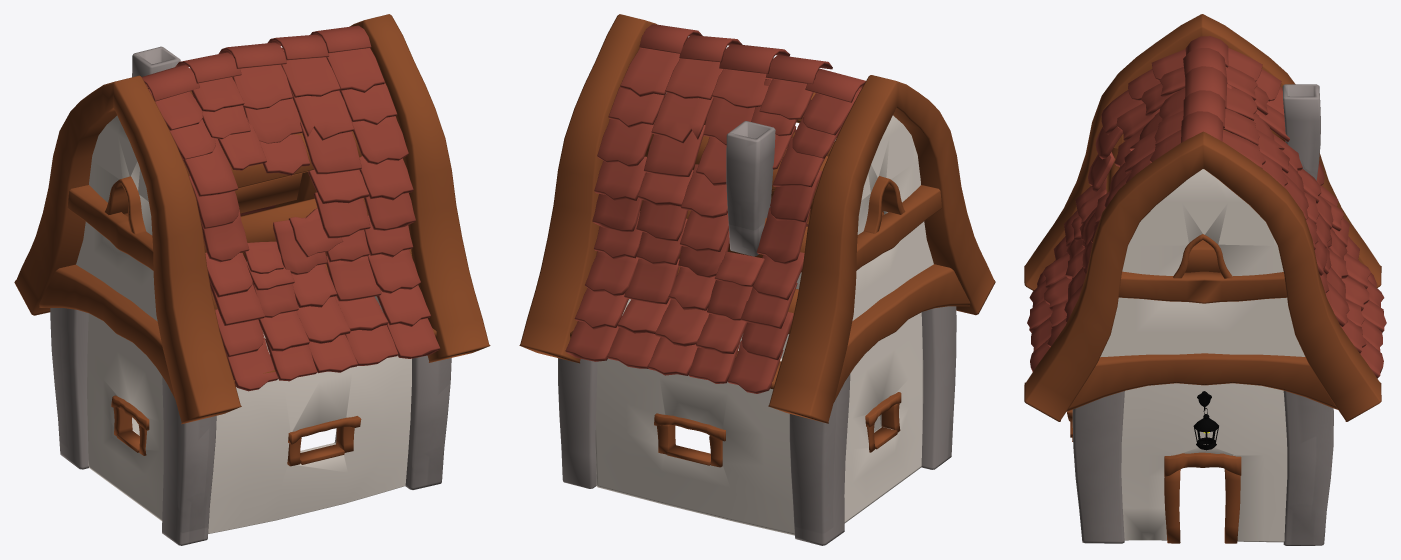
The model's file is rumah npc 6.fbx.
The picture shows the model from 3 angles, left to right: view 1: azimuth 30°, elevation 25°; view 2: azimuth 150°, elevation 25°; view 3: azimuth 270°, elevation 25°; orthographic projection. The views are drawn at different scales.
Visible parts, largest first — view 1: predny_tram_Drevo_Mat_0; view 2: predny_tram_Drevo_Mat_0; view 3: predny_tram_Drevo_Mat_0.
Boxes of the visible parts, left/top/right/bottom form: predny_tram_Drevo_Mat_0: left=14, top=14, right=490, bottom=545; predny_tram_Drevo_Mat_0: left=519, top=14, right=995, bottom=545; predny_tram_Drevo_Mat_0: left=1024, top=14, right=1386, bottom=545.
Bounding box in the file's own units: 727 × 877 × 706.
Materials: 6 (4 with a texture image).
